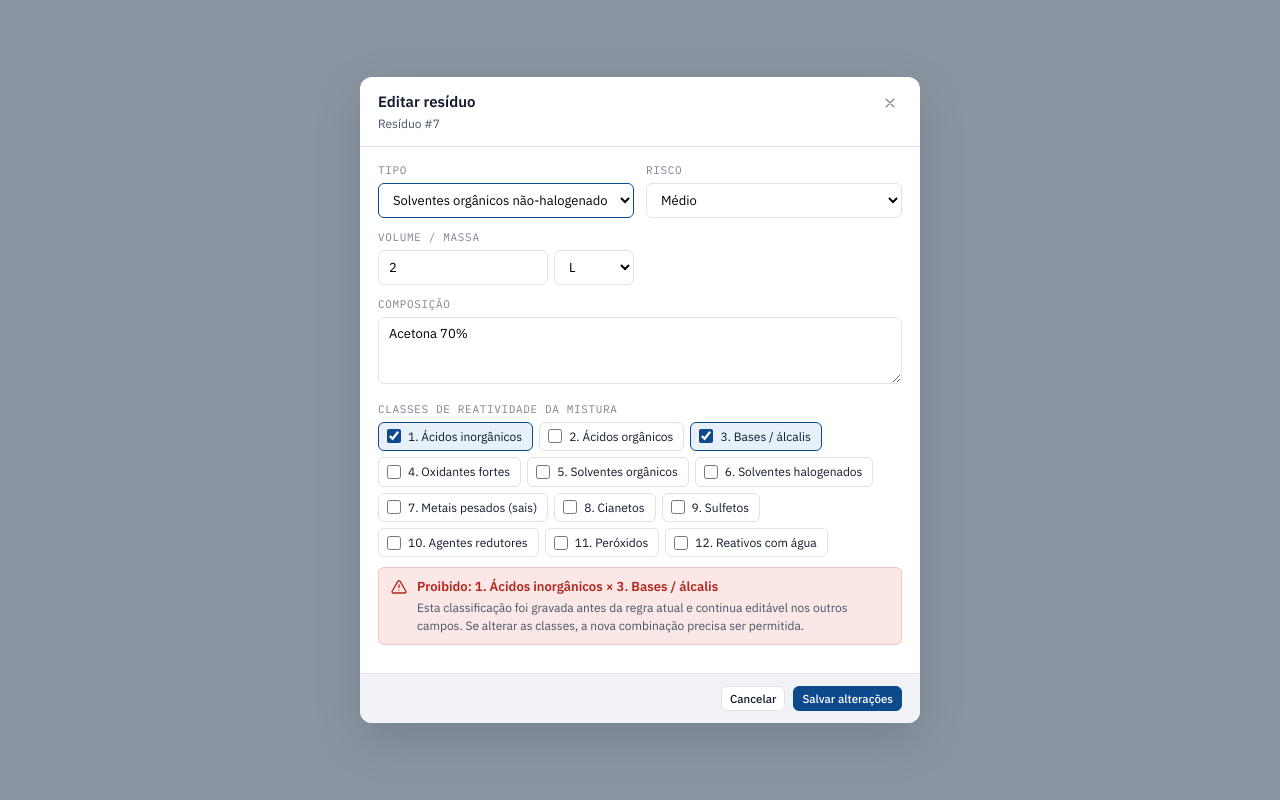
Test: FormEditarResiduo — classificação › com resíduo gravado antes de uma revisão da matriz › bloqueia quando a nova combinação continua proibida
The width and height of the screenshot is (1280, 800).
Click the checkbox labelled "5. Solventes orgânicos" at [543, 472], box [536,465,550,479]
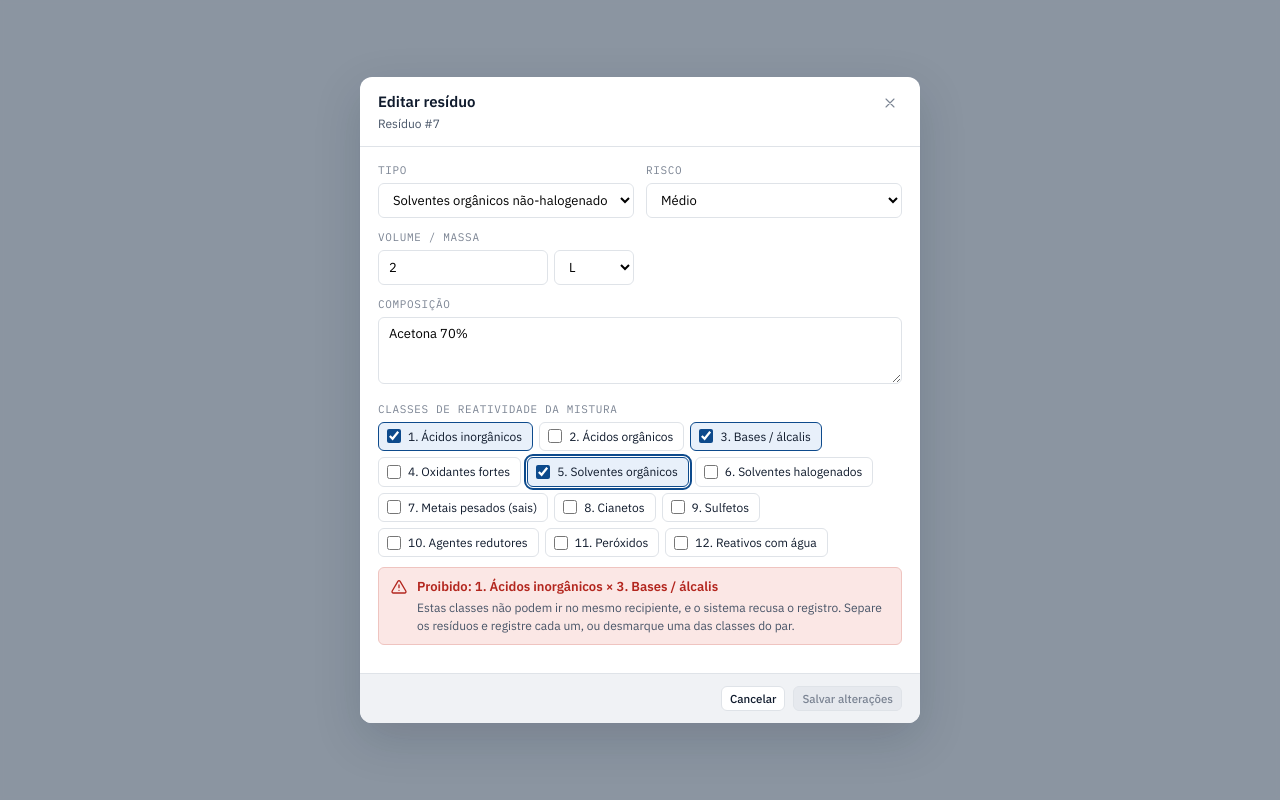
expect the text "o sistema recusa o registro" is shown: met, box [417,600,882,633]
expect the button "Salvar alterações" is disabled: met, box [793,686,902,711]
